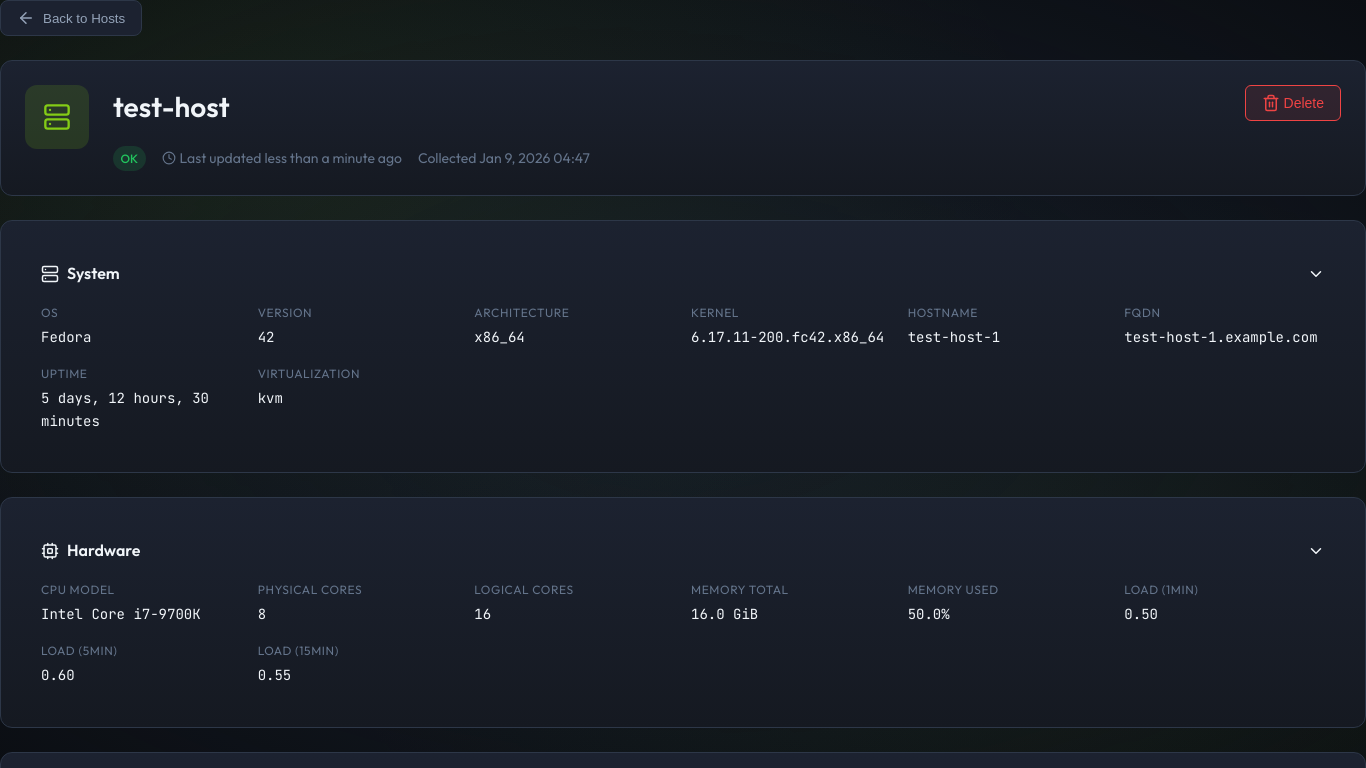
Test case: HostDetail › opens delete modal when delete button is clicked
Expected: the text "test-host" is shown, [113,89,230,124]
Click the button "Delete".
click(1293, 103)  # box [1244,85,1341,121]
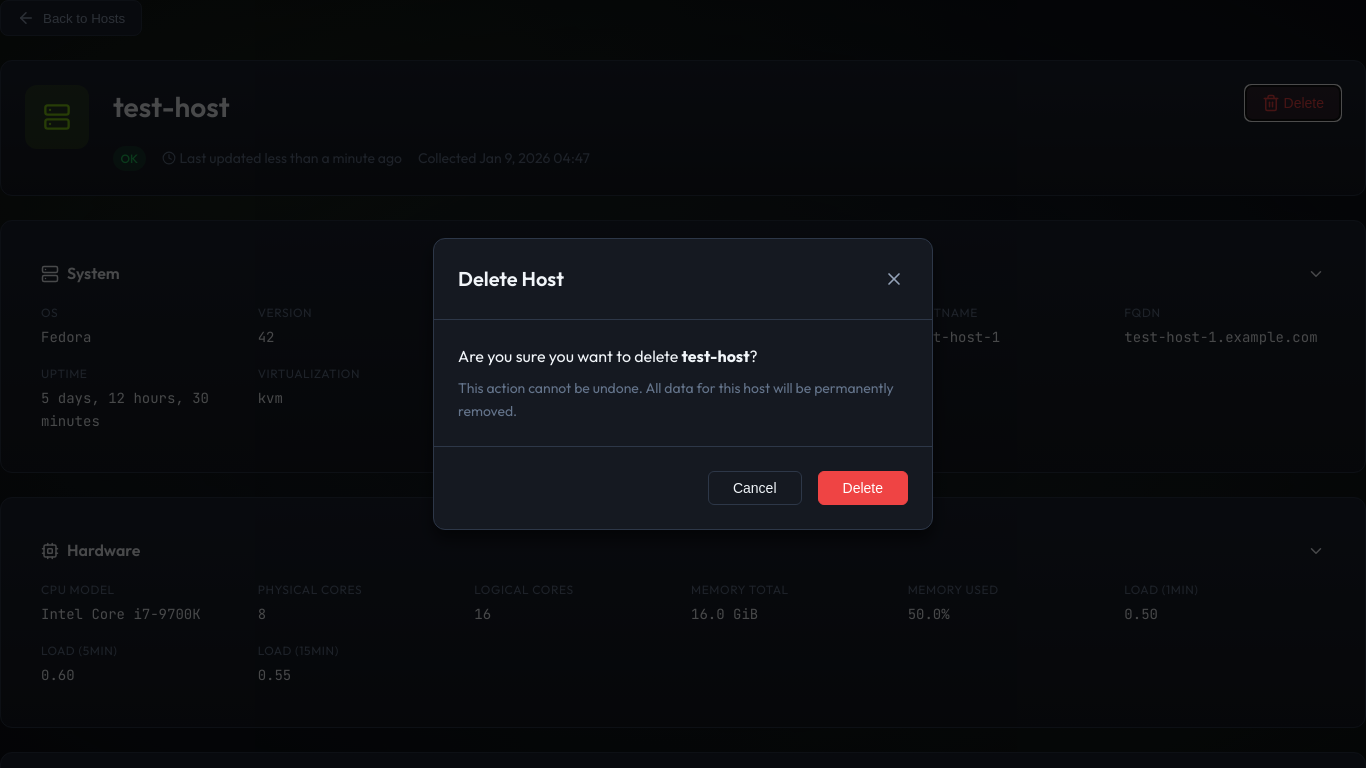
Result: the heading "Delete Host" is shown at [458,263,564,295]
Result: the text "Are you sure you want to delete test-host?" is shown at [458,346,758,366]
